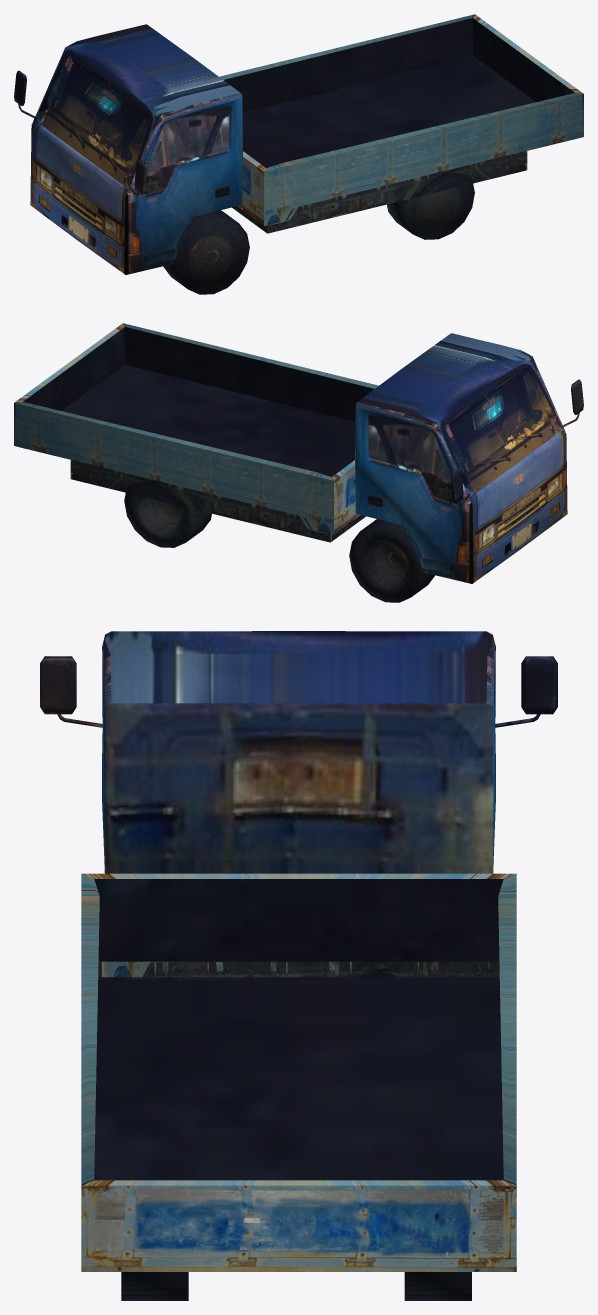
3 renders of one model, top to bottom at view 1: azimuth 30°, elevation 25°; view 2: azimuth 150°, elevation 25°; view 3: azimuth 270°, elevation 25°, orthographic. The views are drawn at different scales.
Parts seen in each view (by area): view 1: Cube; view 2: Cube; view 3: Cube.
Part boxes in pixels (x1,y1,x2,y2): Cube: (14, 14, 583, 294); Cube: (14, 323, 583, 602); Cube: (40, 631, 557, 1300).
Size of the model in its own units: 360 by 150 by 178.
1 material, 1 textured.
